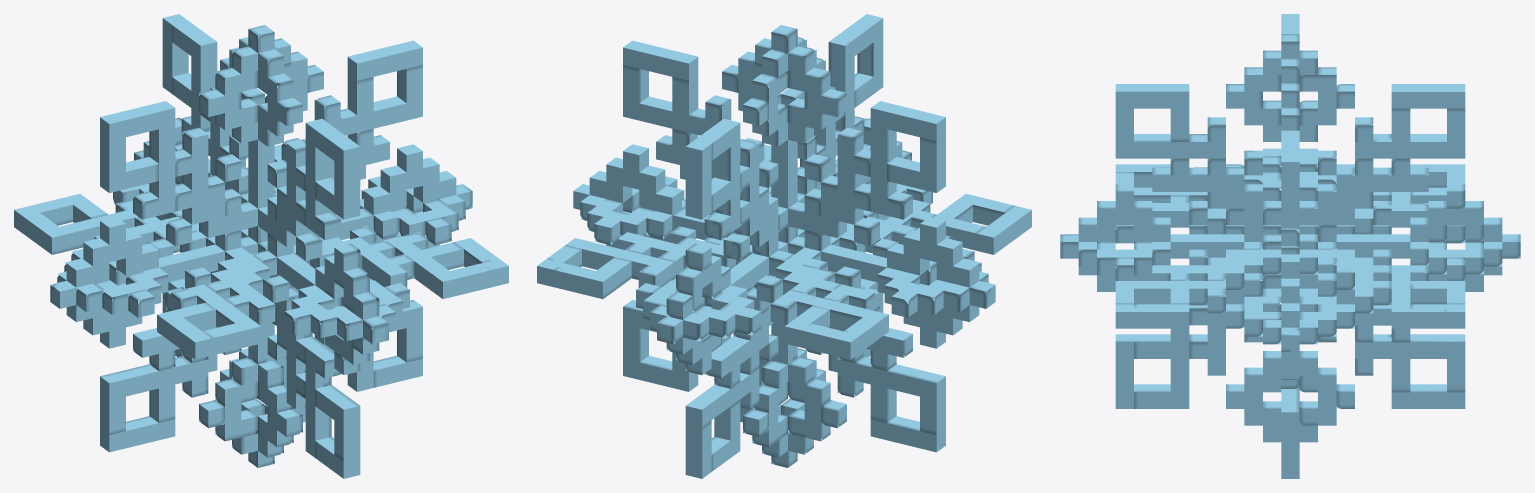
Rendered from Copo_nieve.dae.
The picture shows the model from 3 angles, left to right: view 1: azimuth 30°, elevation 25°; view 2: azimuth 150°, elevation 25°; view 3: azimuth 270°, elevation 25°; orthographic projection. The views are drawn at different scales.
Visible parts, largest first — view 1: Node (2)-local, Node (4)-local, Node (7)-local, Node (5)-local, Node (10)-local, Node (8)-local, Node (9)-local, Node (11)-local, Node (1)-local, Node (12)-local, Node (3)-local, Node (6)-local; view 2: Node (2)-local, Node (12)-local, Node (10)-local, Node (4)-local, Node (7)-local, Node (9)-local, Node (6)-local, Node (8)-local, Node (1)-local, Node (3)-local, Node (11)-local, Node (5)-local; view 3: Node (11)-local, Node (7)-local, Node (9)-local, Node (8)-local, Node (6)-local, Node (10)-local, Node (12)-local, Node (5)-local, Node (2)-local, Node (3)-local, Node (4)-local.
Part boxes in pixels (x1,y1,x2,y2): Node (2)-local: [100, 25, 422, 251]; Node (4)-local: [100, 270, 422, 467]; Node (7)-local: [167, 14, 360, 260]; Node (5)-local: [157, 226, 493, 359]; Node (10)-local: [14, 194, 288, 342]; Node (8)-local: [170, 274, 360, 478]; Node (9)-local: [274, 139, 508, 298]; Node (11)-local: [258, 119, 388, 478]; Node (1)-local: [50, 217, 257, 348]; Node (12)-local: [134, 14, 248, 372]; Node (3)-local: [364, 144, 472, 248]; Node (6)-local: [40, 139, 305, 257]; Node (2)-local: [623, 25, 945, 251]; Node (12)-local: [657, 119, 787, 478]; Node (10)-local: [756, 194, 1031, 359]; Node (4)-local: [623, 270, 945, 466]; Node (7)-local: [686, 16, 883, 260]; Node (9)-local: [537, 138, 771, 298]; Node (6)-local: [537, 231, 888, 343]; Node (8)-local: [690, 271, 883, 478]; Node (1)-local: [801, 217, 995, 348]; Node (3)-local: [573, 144, 733, 248]; Node (11)-local: [797, 14, 911, 372]; Node (5)-local: [680, 150, 1031, 254]; Node (11)-local: [1060, 84, 1281, 408]; Node (7)-local: [1115, 34, 1465, 241]; Node (9)-local: [1115, 242, 1465, 351]; Node (8)-local: [1115, 274, 1465, 442]; Node (6)-local: [1299, 164, 1520, 328]; Node (10)-local: [1115, 148, 1465, 234]; Node (12)-local: [1299, 84, 1520, 392]; Node (5)-local: [1060, 164, 1281, 313]; Node (2)-local: [1281, 14, 1299, 254]; Node (3)-local: [1281, 254, 1299, 378]; Node (4)-local: [1281, 379, 1299, 478].
Size of the model in its own units: 50 by 50 by 50.
3 materials, 3 textured.
